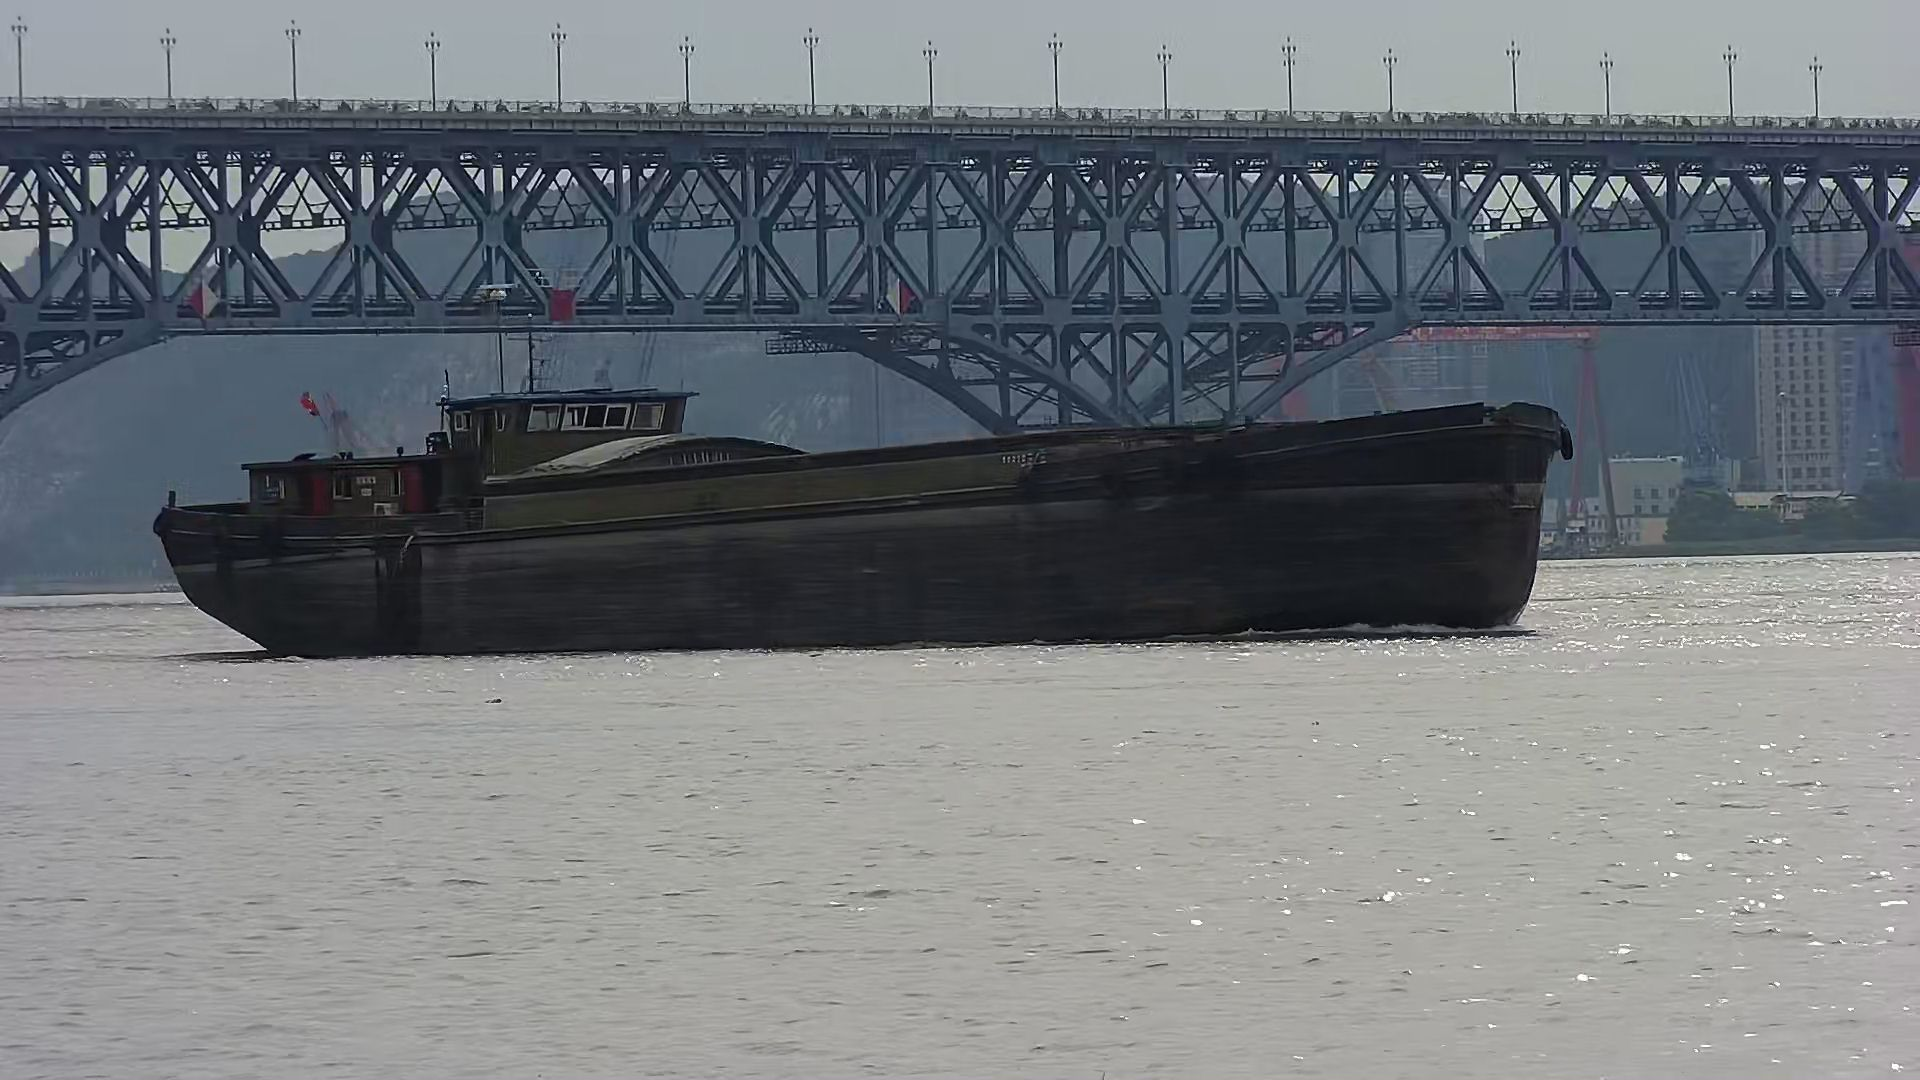bridge: (1, 1, 1911, 442)
ship: (132, 385, 1582, 661)
